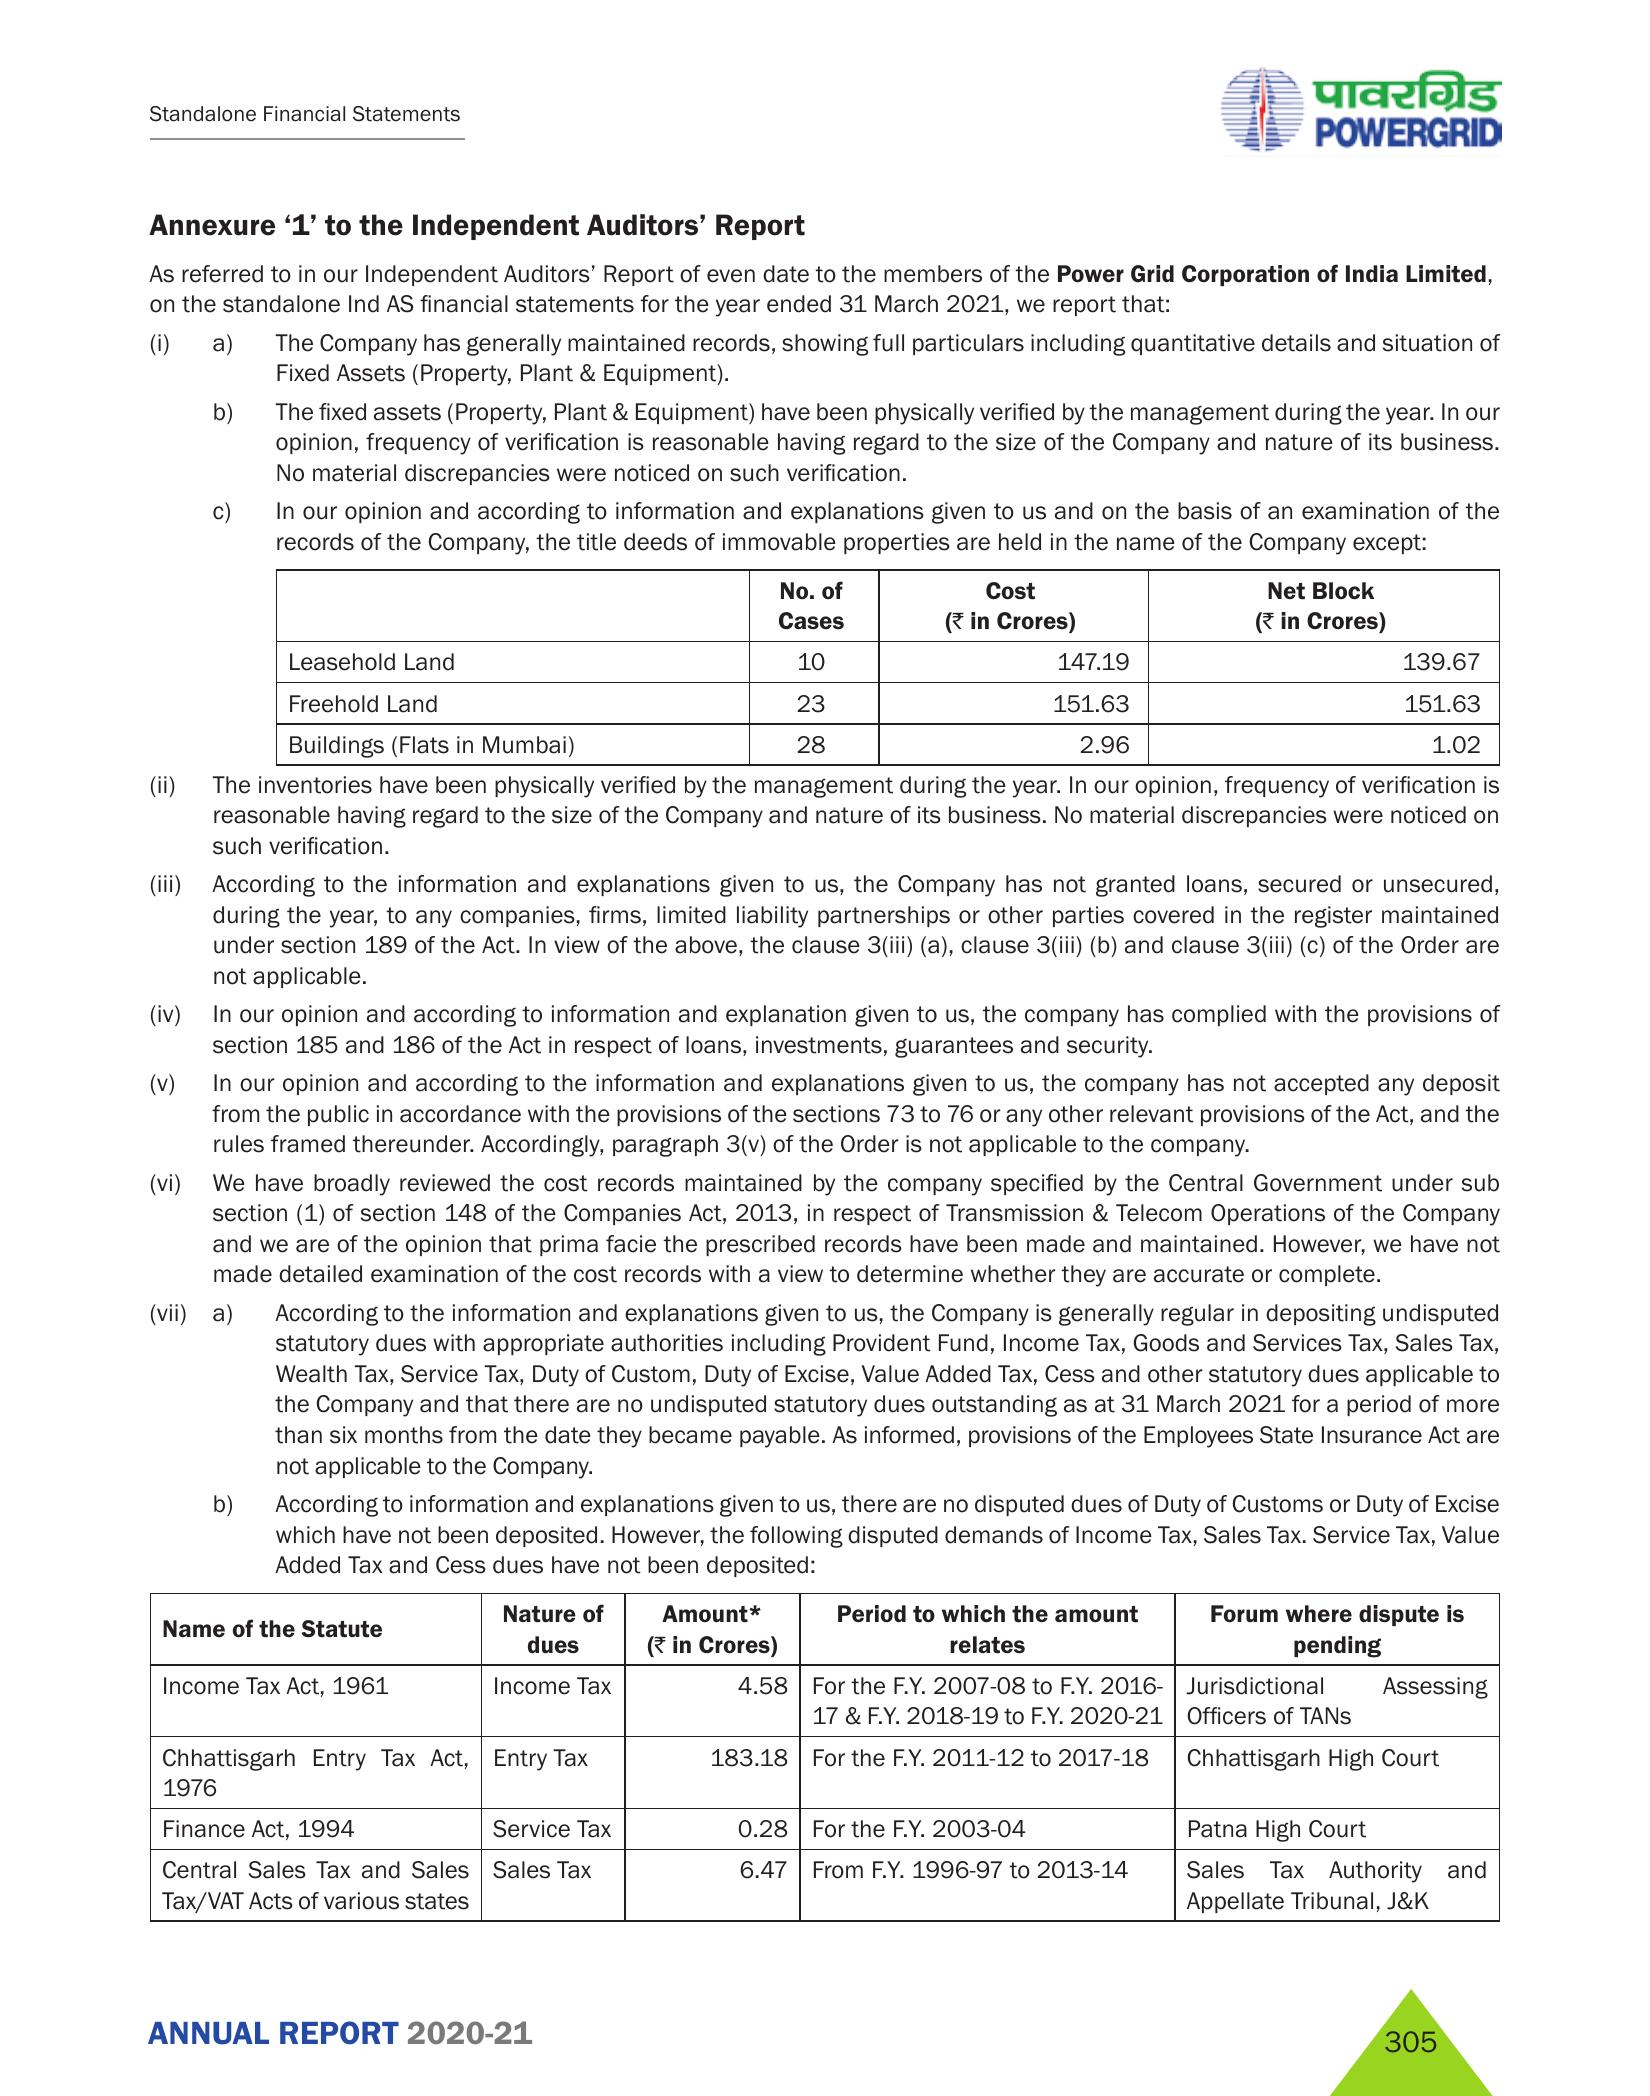Footer: (0, 1962, 1650, 2096)
Header: (0, 0, 1650, 163)
Table: (139, 1586, 1499, 1916), (204, 565, 1528, 764)
